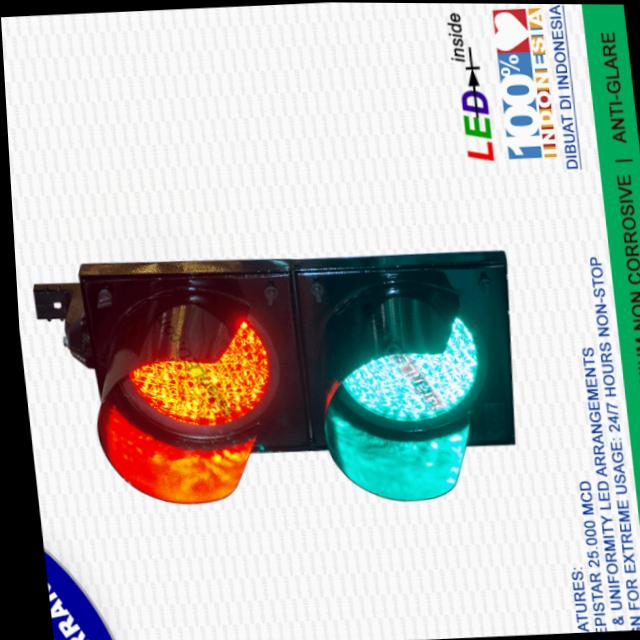Hijau: (330, 310, 482, 425)
Merah: (114, 309, 272, 431)
